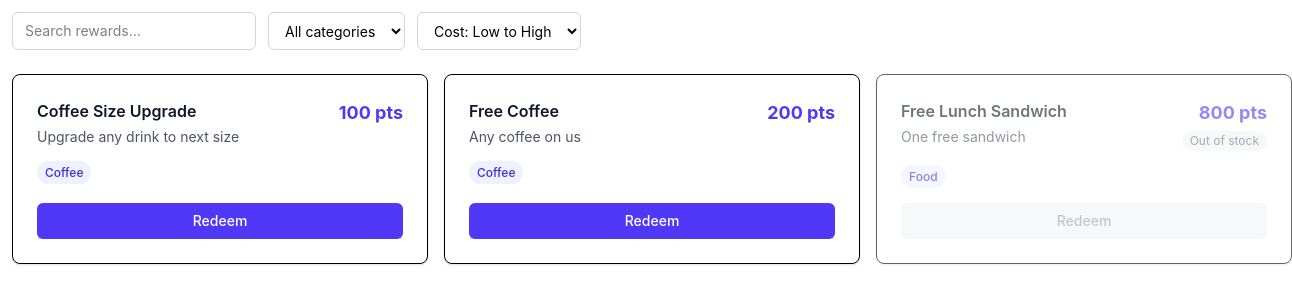
Test: RewardList › shows empty state when no rewards match the search
Expected: the heading "Free Coffee" is shown, [469,101,559,121]
Type "xyznotareward" into the search field at (134, 31), box [12,12,256,50]
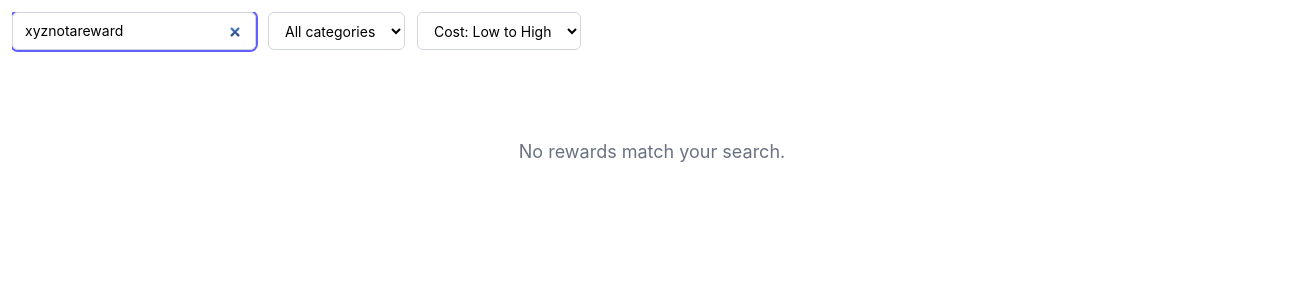
Expected: the text "No rewards match your search." is shown, [519,138,785,166]
